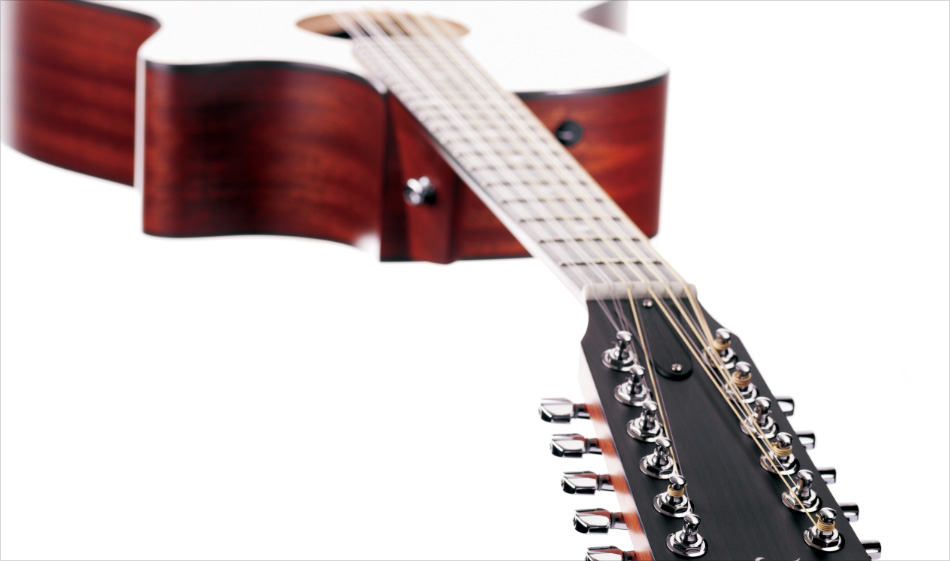guitar: (3, 1, 893, 561)
